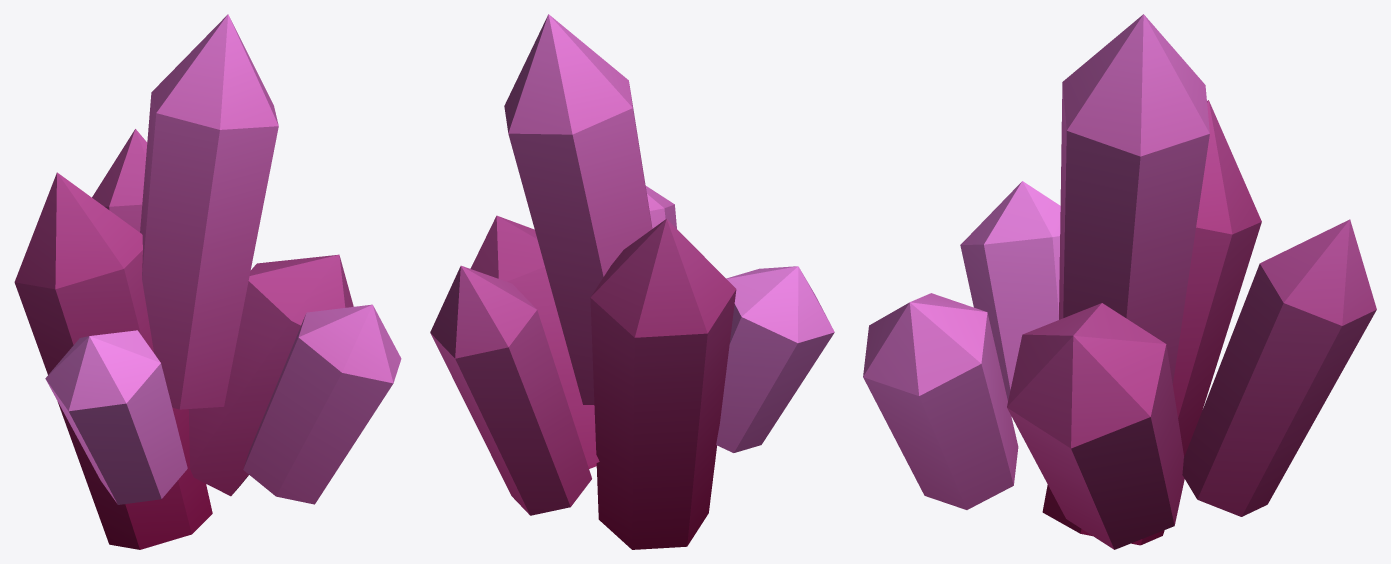
The model's file is Crystal4.fbx.
3 renders of one model, left to right at view 1: azimuth 30°, elevation 25°; view 2: azimuth 150°, elevation 25°; view 3: azimuth 270°, elevation 25°, orthographic. The views are drawn at different scales.
Parts seen in each view (by area): view 1: Окружность.053; view 2: Окружность.053; view 3: Окружность.053.
Part boxes in pixels (<box>): Окружность.053: <box>14,14,401,549</box>; Окружность.053: <box>430,14,834,549</box>; Окружность.053: <box>863,14,1376,549</box>.
Size of the model in its own units: 66.28 by 97.24 by 79.09.
Materials: 1 (1 with a texture image).
